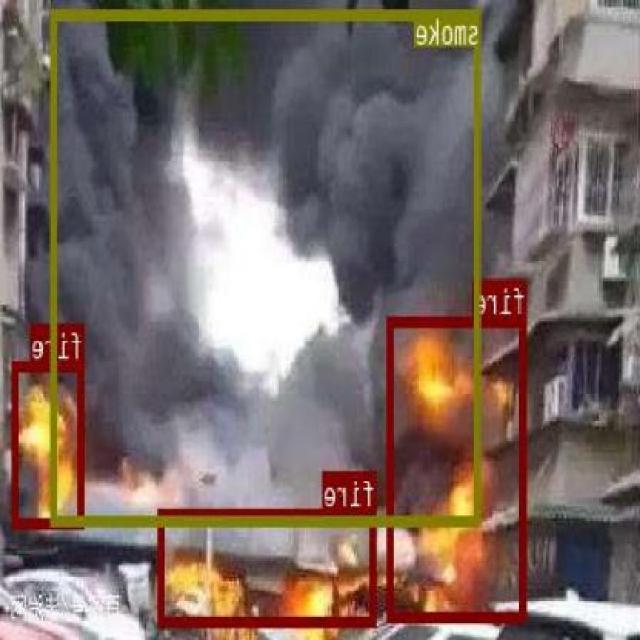Fire: (388, 315, 528, 620), (159, 508, 378, 624), (14, 359, 86, 527)
Smoke: (52, 8, 482, 524)
